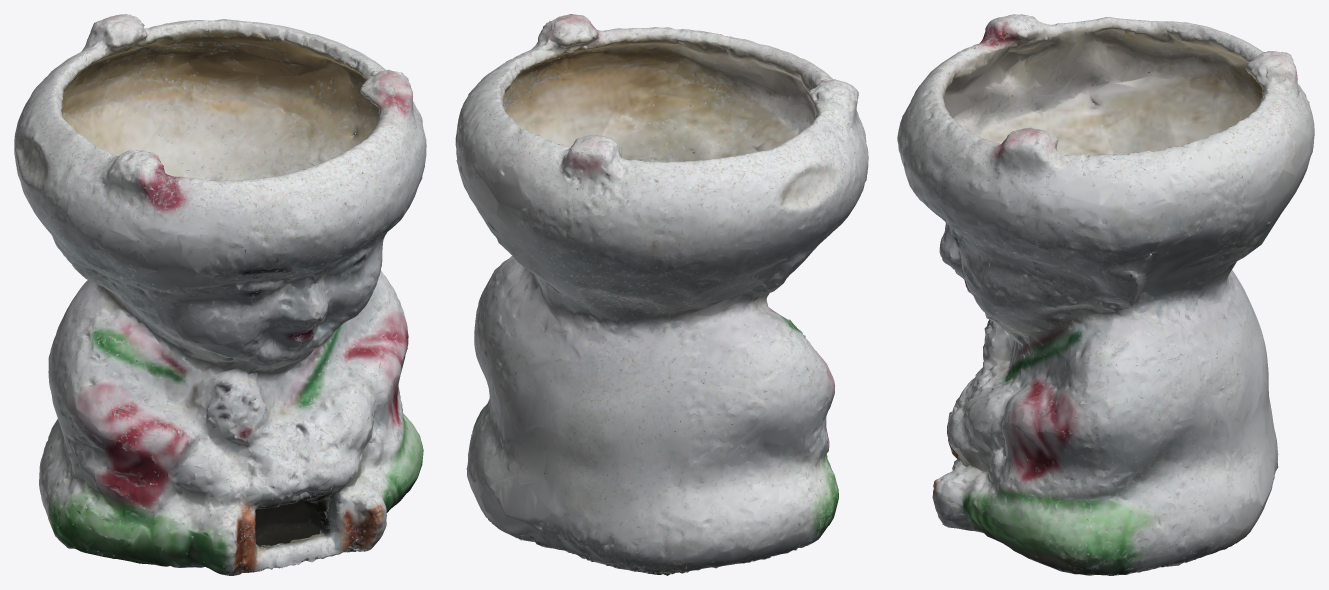
The model's file is 1205_Ceramics_set1.glb.
3 views of the same model, side by side, from view 1: azimuth 30°, elevation 25°; view 2: azimuth 150°, elevation 25°; view 3: azimuth 270°, elevation 25° (orthographic).
Parts seen in each view (by area): view 1: _ceramic_set1:Group_Global; view 2: _ceramic_set1:Group_Global; view 3: _ceramic_set1:Group_Global.
Part boxes in pixels (left/top/right/bottom): _ceramic_set1:Group_Global: left=14, top=14, right=426, bottom=575; _ceramic_set1:Group_Global: left=455, top=14, right=868, bottom=575; _ceramic_set1:Group_Global: left=897, top=14, right=1314, bottom=575.
Bounding box in the file's own units: 0.0123 × 0.0139 × 0.0121.
Materials: 1 (1 with a texture image).
